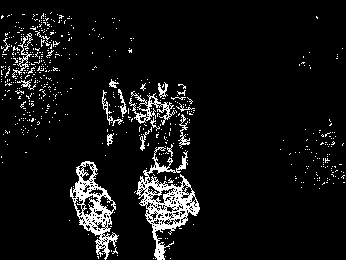person: (136, 146, 200, 260), (70, 159, 119, 258), (129, 77, 158, 148), (147, 81, 176, 147), (101, 77, 126, 146), (170, 84, 196, 147)
